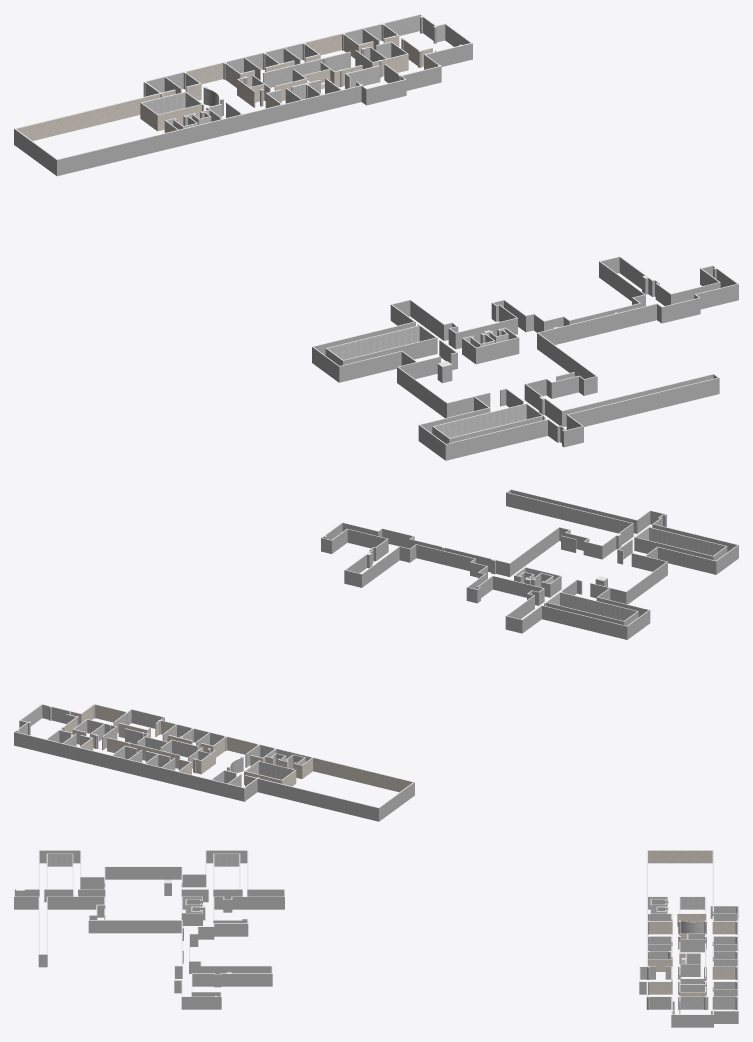
Rendered from combined.dae.
The picture shows the model from 3 angles, top to bottom: view 1: azimuth 30°, elevation 25°; view 2: azimuth 150°, elevation 25°; view 3: azimuth 270°, elevation 25°; orthographic projection. The views are drawn at different scales.
Visible parts, largest first — view 1: SketchUp.228, SketchUp.171, SketchUp.262, SketchUp.089, SketchUp.134, SketchUp.254, SketchUp.263, SketchUp.356, SketchUp.364, SketchUp.237, SketchUp.128, SketchUp.194 (+1 smaller); view 2: SketchUp.228, SketchUp.167, SketchUp.171, SketchUp.262, SketchUp.089, SketchUp.134, SketchUp.254, SketchUp.263, SketchUp.364, SketchUp.260; view 3: SketchUp.228, SketchUp.262, SketchUp.089, SketchUp.167, SketchUp.371, SketchUp.134, SketchUp.388, SketchUp.138, SketchUp.305, SketchUp.263, SketchUp.254, SketchUp.216 (+8 smaller).
Boxes of the visible parts, x1,y1,x2,y2 form: SketchUp.228: (312, 261, 738, 460); SketchUp.171: (14, 66, 441, 176); SketchUp.262: (312, 256, 738, 444); SketchUp.089: (14, 14, 472, 159); SketchUp.134: (16, 94, 176, 140); SketchUp.254: (327, 326, 435, 359); SketchUp.263: (434, 404, 541, 437); SketchUp.356: (343, 338, 437, 364); SketchUp.364: (537, 333, 595, 378); SketchUp.237: (562, 374, 713, 427); SketchUp.128: (140, 103, 203, 131); SketchUp.194: (263, 59, 323, 87); SketchUp.228: (321, 492, 738, 639); SketchUp.167: (14, 720, 243, 801); SketchUp.171: (161, 717, 414, 821); SketchUp.262: (321, 489, 738, 626); SketchUp.089: (14, 704, 414, 808); SketchUp.134: (258, 758, 412, 792); SketchUp.254: (547, 592, 636, 620); SketchUp.263: (636, 527, 725, 555); SketchUp.364: (510, 528, 559, 576); SketchUp.260: (511, 490, 637, 533); SketchUp.228: (14, 897, 284, 1009); SketchUp.262: (14, 850, 284, 996); SketchUp.089: (639, 850, 738, 1014); SketchUp.167: (650, 997, 738, 1027); SketchUp.371: (105, 867, 181, 879); SketchUp.134: (648, 850, 712, 903); SketchUp.388: (200, 966, 271, 974); SketchUp.138: (679, 939, 706, 952); SketchUp.305: (182, 874, 206, 887); SketchUp.263: (47, 854, 72, 866); SketchUp.254: (214, 854, 239, 866); SketchUp.216: (712, 921, 735, 934).
Bounding box in the file's own units: 83.83 × 156 × 3.
